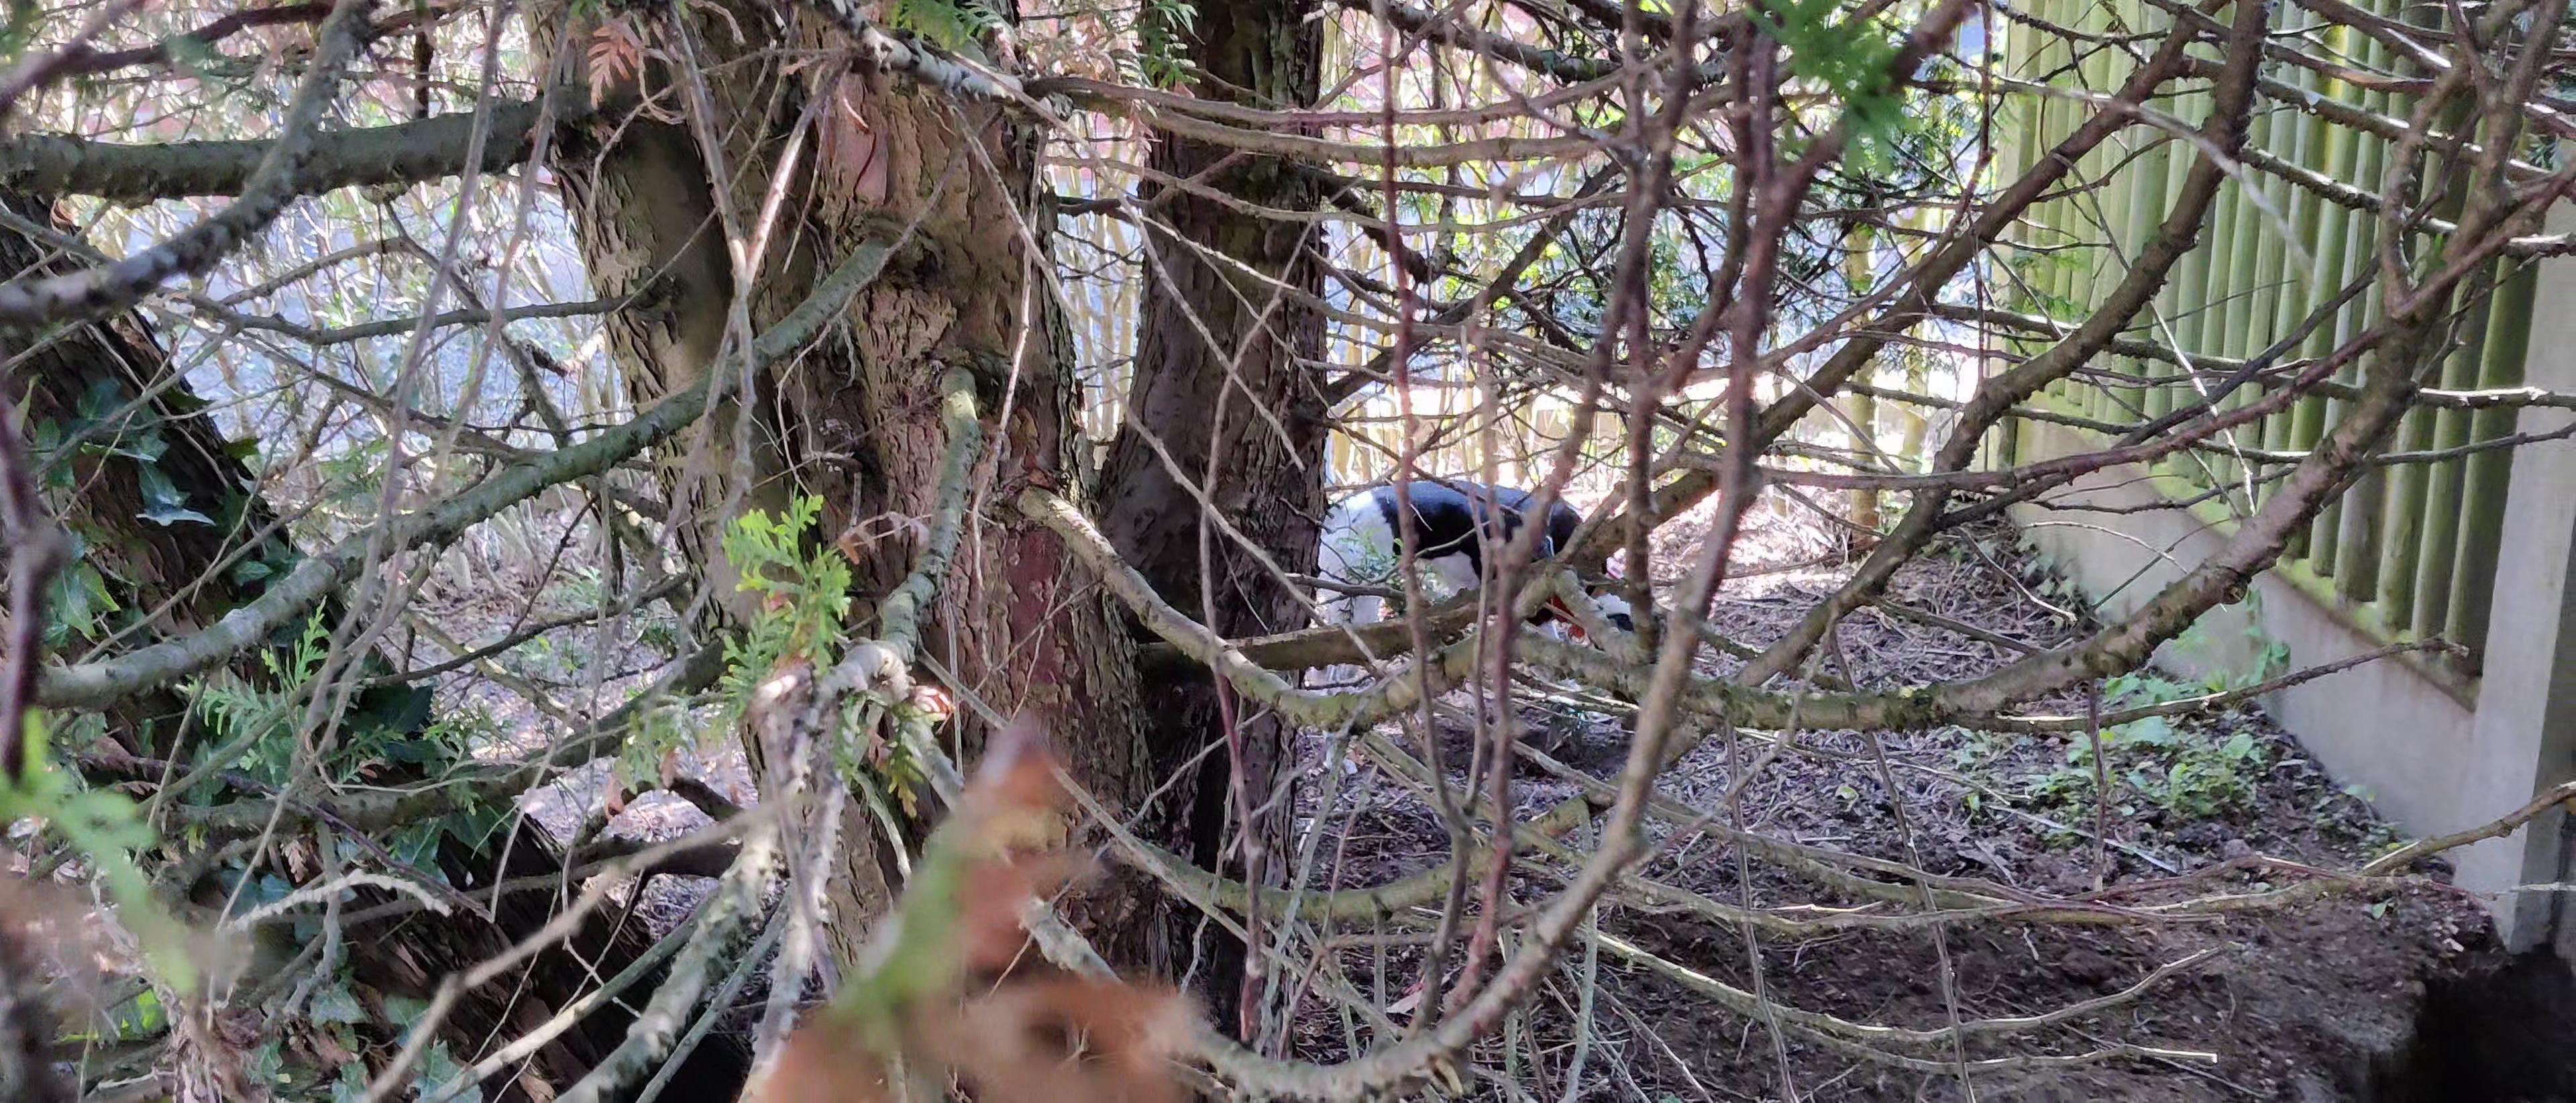Dog: (1276, 432, 1666, 722)
